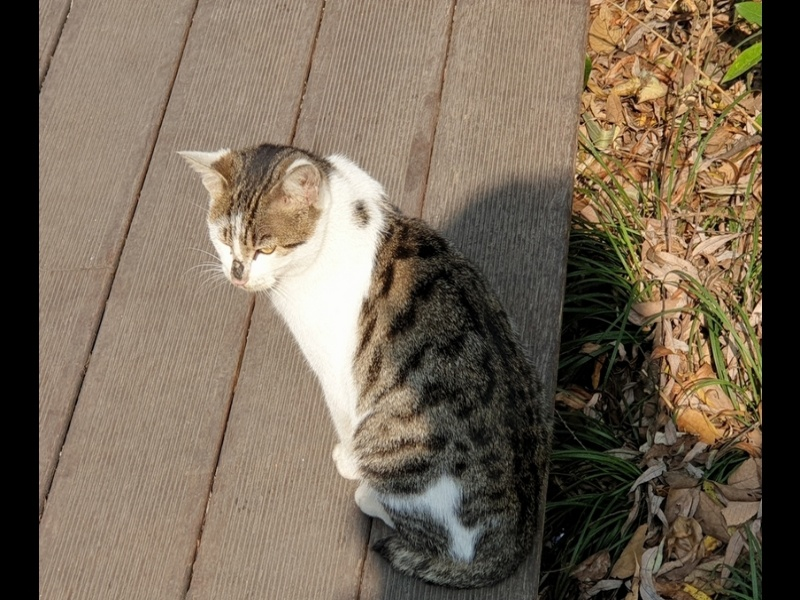cat: (173, 145, 550, 588)
